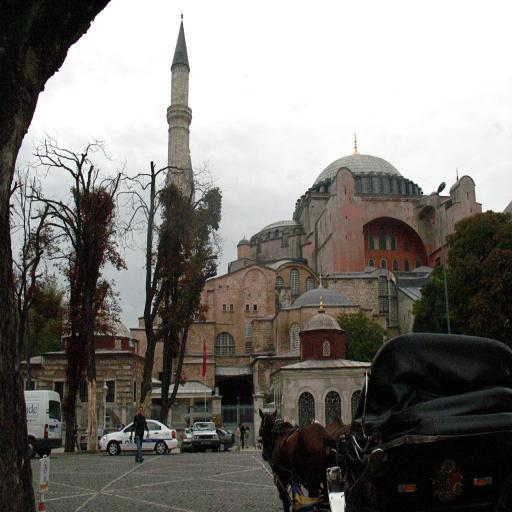horse: (258, 406, 338, 512), (324, 412, 352, 443)
